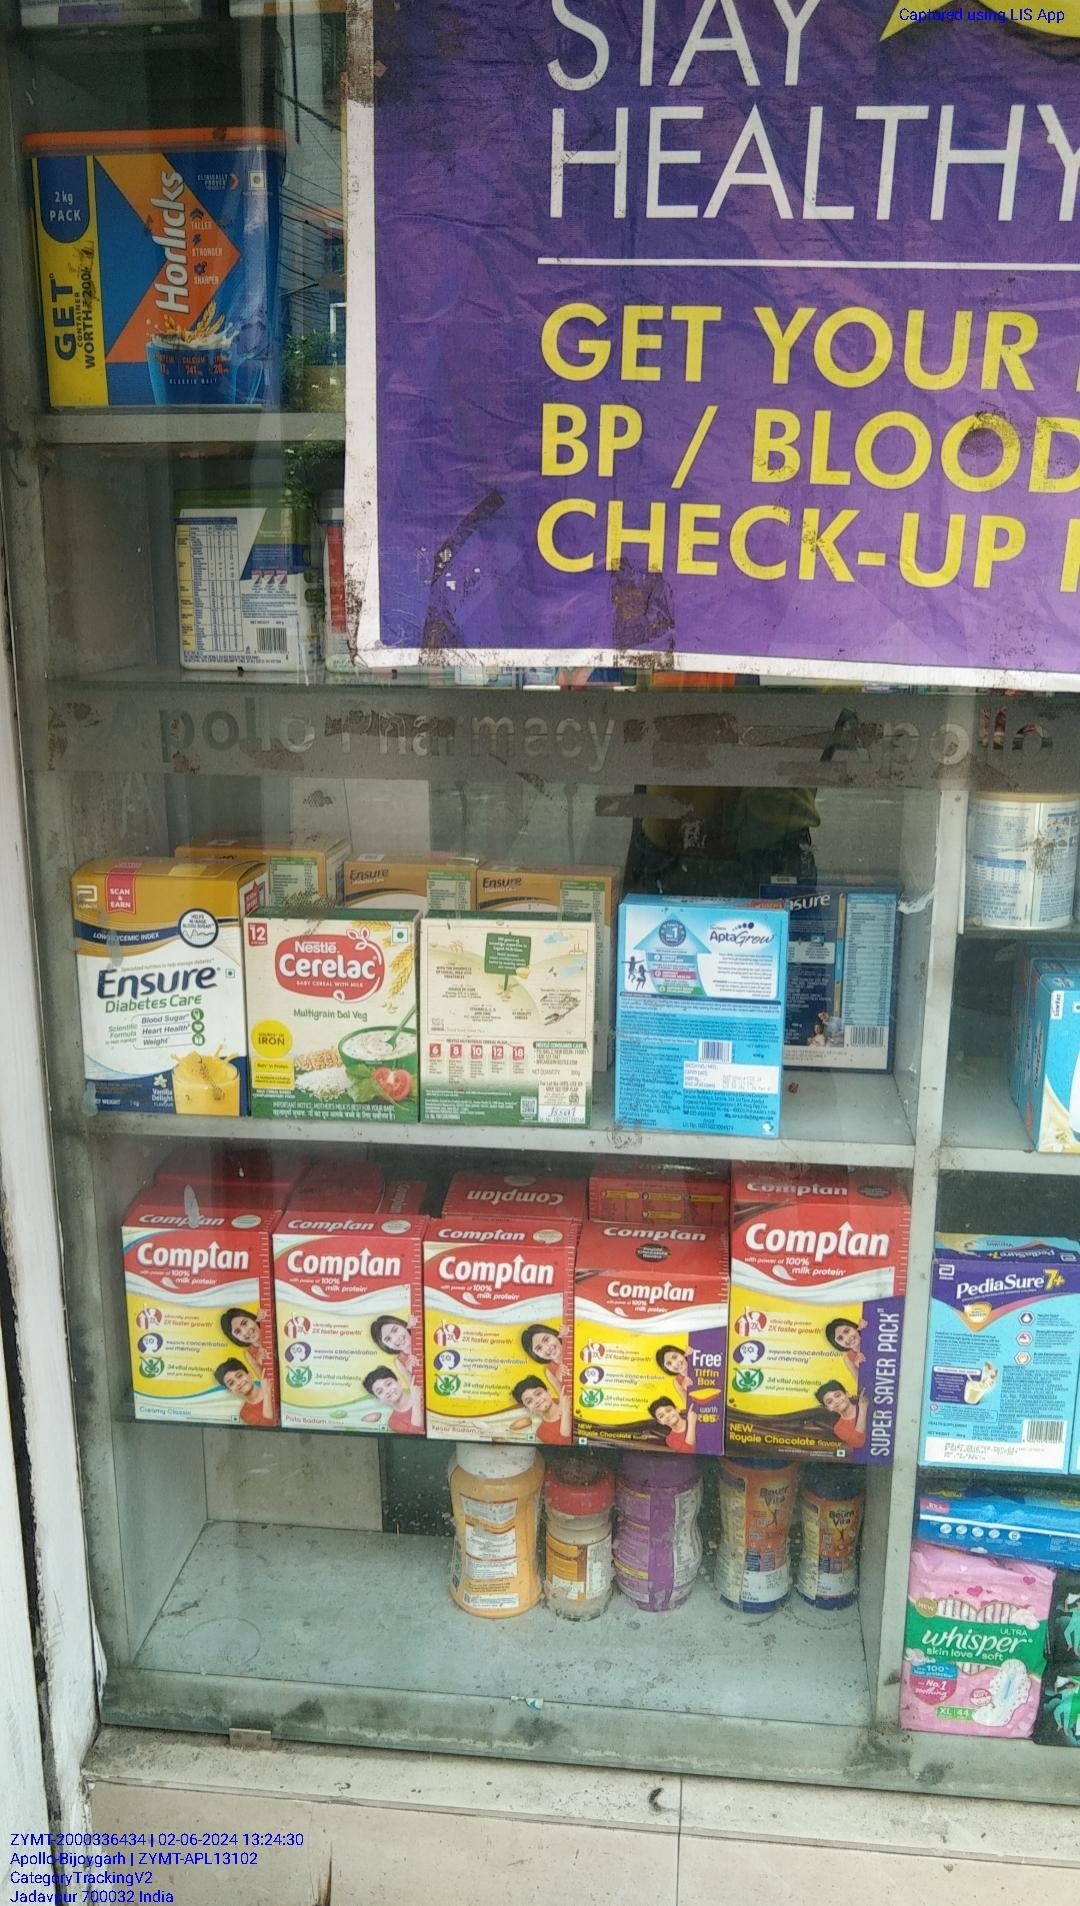HORLICK_MALT_1_KG_CONTAINER: (24, 130, 285, 415)
